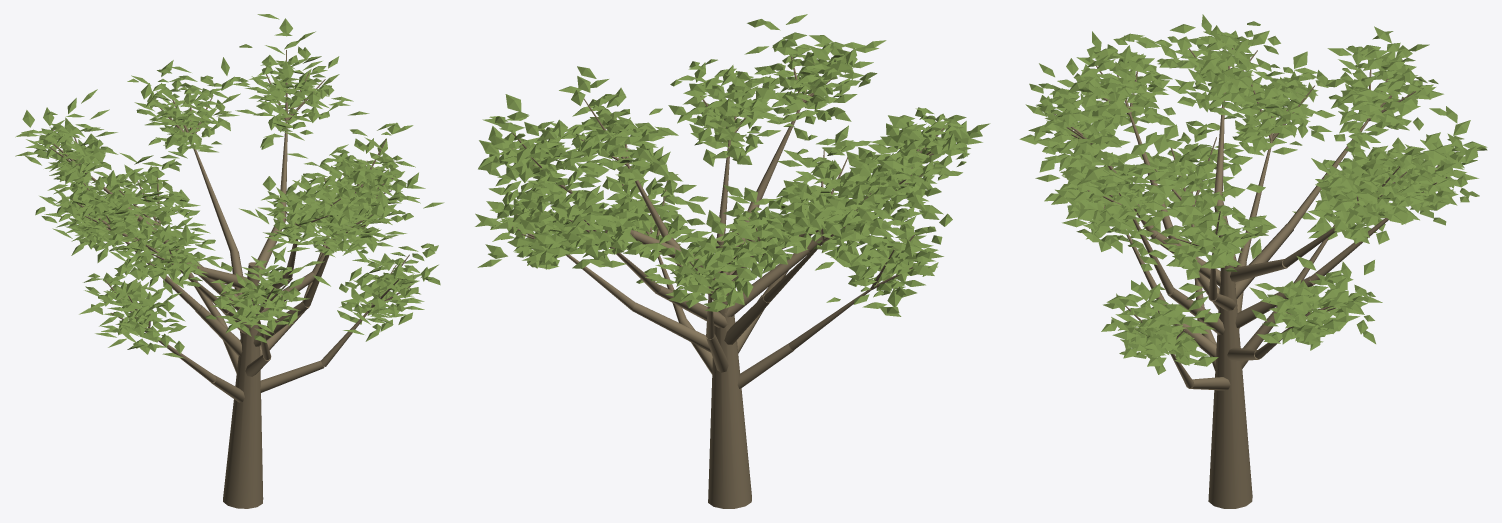
Rendered from oak_11.glb.
3 views of the same model, side by side, from view 1: azimuth 30°, elevation 25°; view 2: azimuth 150°, elevation 25°; view 3: azimuth 270°, elevation 25° (orthographic). The views are drawn at different scales.
Visible parts, largest first — view 1: oak_11; view 2: oak_11; view 3: oak_11.
Boxes of the visible parts, x1,y1,x2,y2 form: oak_11: [15, 14, 444, 508]; oak_11: [475, 14, 990, 508]; oak_11: [1019, 14, 1487, 508].
Bounding box in the file's own units: 4.33 × 4.16 × 4.13.
